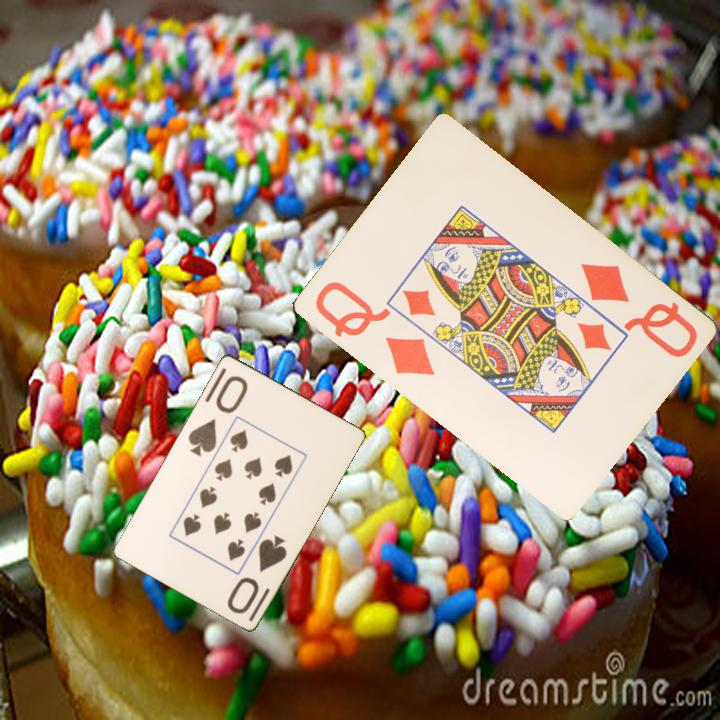10s: (184, 371, 251, 459), (223, 530, 290, 617)
Qd: (310, 277, 438, 379), (576, 259, 700, 361)
